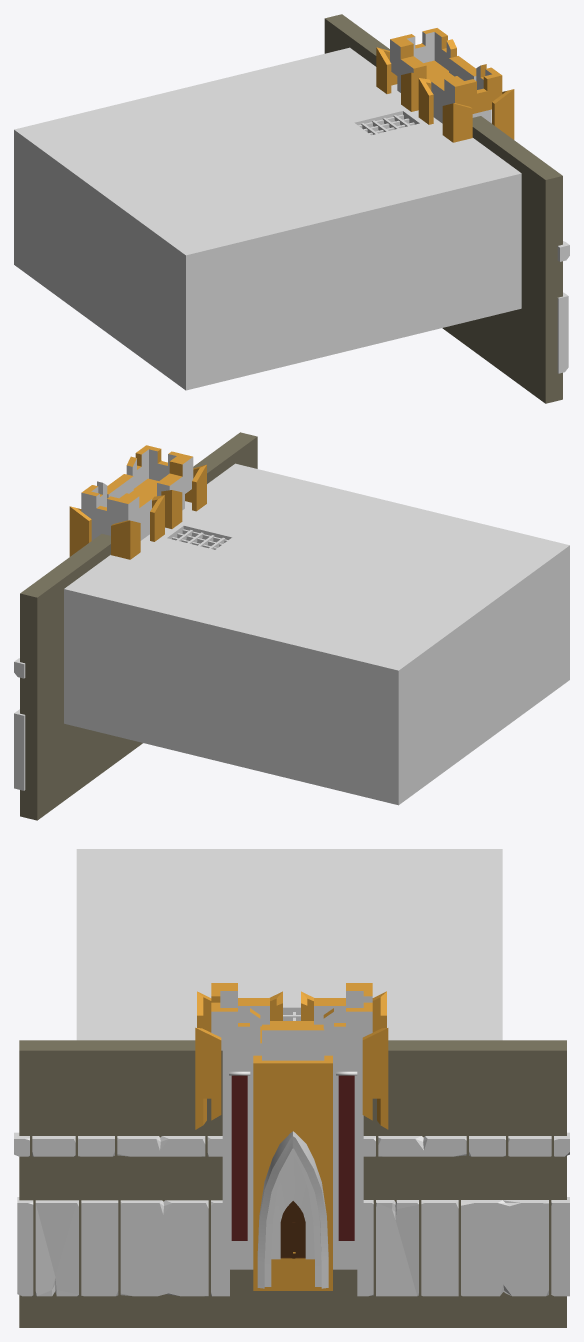
File: Castle_entrance.fbx
3 views of the same model, one above another, from view 1: azimuth 30°, elevation 25°; view 2: azimuth 150°, elevation 25°; view 3: azimuth 270°, elevation 25° (orthographic). The views are drawn at different scales.
Visible parts, largest first — view 1: Cube.138, Cube.137, Cube.135, Cube.136, Cube.140, Cube.134, Cube.132; view 2: Cube.138, Cube.137, Cube.135, Cube.136, Cube.139, Cube.134; view 3: Cube.137, Cube.138, Cube.140, Cube.139, Cube.132, Cube.134, Cube.036, Cube.136, Cube.135, Cylinder.063, Cube.141, Cube.142 (+2 smaller).
Boxes of the visible parts, x1,y1,x2,y2 form: Cube.138: [14, 47, 521, 390]; Cube.137: [324, 14, 562, 403]; Cube.135: [390, 28, 502, 113]; Cube.136: [376, 43, 514, 142]; Cube.140: [557, 292, 568, 373]; Cube.134: [397, 60, 491, 123]; Cube.132: [449, 56, 476, 80]; Cube.138: [64, 463, 569, 805]; Cube.137: [20, 432, 257, 820]; Cube.135: [81, 445, 193, 530]; Cube.136: [69, 460, 206, 559]; Cube.139: [14, 709, 25, 790]; Cube.134: [91, 478, 184, 540]; Cube.137: [19, 1040, 566, 1327]; Cube.138: [76, 849, 502, 1040]; Cube.140: [17, 1197, 229, 1296]; Cube.139: [357, 1197, 569, 1296]; Cube.132: [253, 1024, 332, 1290]; Cube.134: [222, 1021, 363, 1269]; Cube.036: [257, 1131, 328, 1288]; Cube.136: [195, 991, 388, 1129]; Cube.135: [211, 983, 372, 1050]; Cylinder.063: [229, 1071, 357, 1240]; Cube.141: [14, 1132, 222, 1156]; Cube.142: [363, 1132, 569, 1156].
Bounding box in the file's own units: 43.03 × 26.9 × 41.54.
